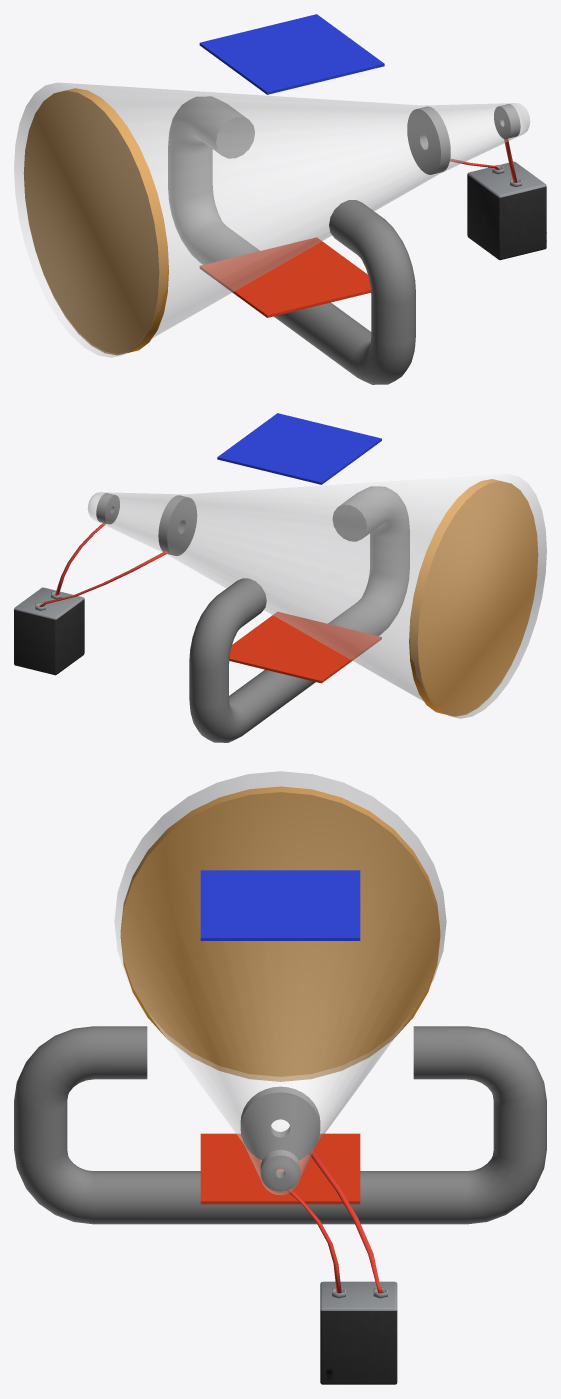
The model's file is OLD CRT UPDATEDD.fbx.
3 views of the same model, one above another, from view 1: azimuth 30°, elevation 25°; view 2: azimuth 150°, elevation 25°; view 3: azimuth 270°, elevation 25° (orthographic). The views are drawn at different scales.
Visible parts, largest first — view 1: tube, Circle, Metal, Blue cube, red cube, Battery; view 2: tube, Circle, Metal, Blue cube, red cube, Battery, Wire; view 3: tube, Circle, Metal, Blue cube, red cube, Battery, Wire.
Part boxes in pixels (x1,y1,x2,y2): tube: [14, 82, 530, 357]; Circle: [23, 88, 168, 355]; Metal: [168, 96, 520, 384]; Blue cube: [199, 14, 384, 94]; red cube: [199, 237, 370, 317]; Battery: [467, 161, 546, 260]; tube: [87, 474, 546, 718]; Circle: [409, 479, 538, 716]; Metal: [96, 486, 409, 742]; Blue cube: [217, 413, 381, 484]; red cube: [229, 612, 381, 683]; Battery: [14, 587, 84, 675]; Wire: [39, 523, 168, 606]; tube: [114, 771, 446, 1194]; Circle: [120, 786, 440, 1081]; Metal: [14, 1026, 546, 1224]; Blue cube: [200, 870, 360, 940]; red cube: [200, 1133, 360, 1204]; Battery: [320, 1281, 397, 1384]; Wire: [287, 1150, 383, 1293].
Size of the model in its own units: 117 by 66.52 by 95.04.
